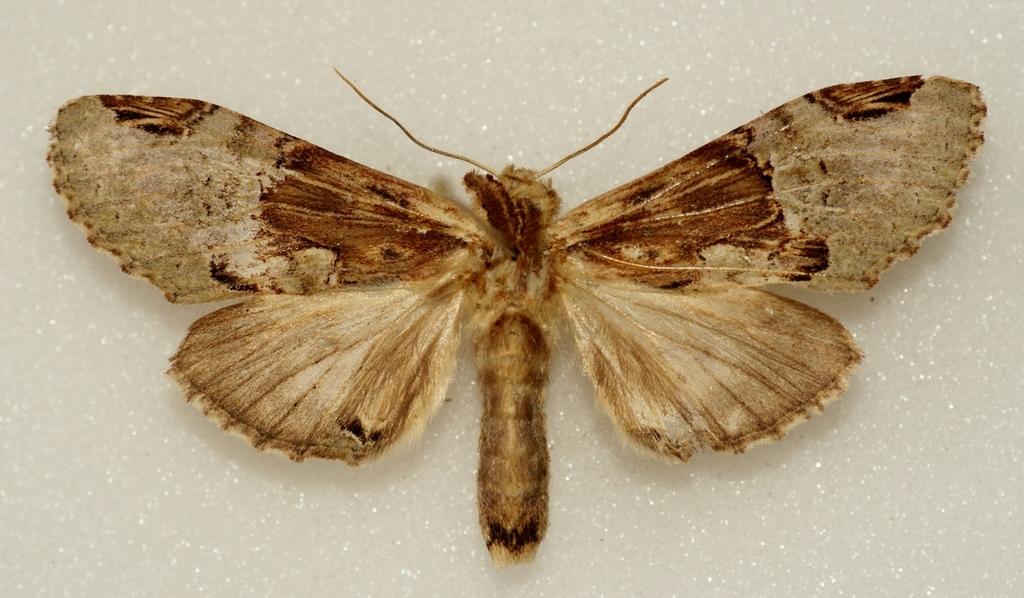Butterfly: (43, 72, 1024, 595)
